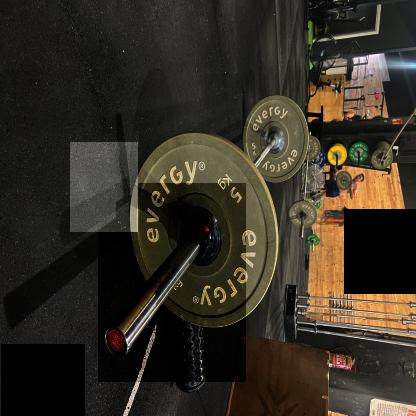barbell: (99, 184, 247, 383), (71, 143, 139, 233)
